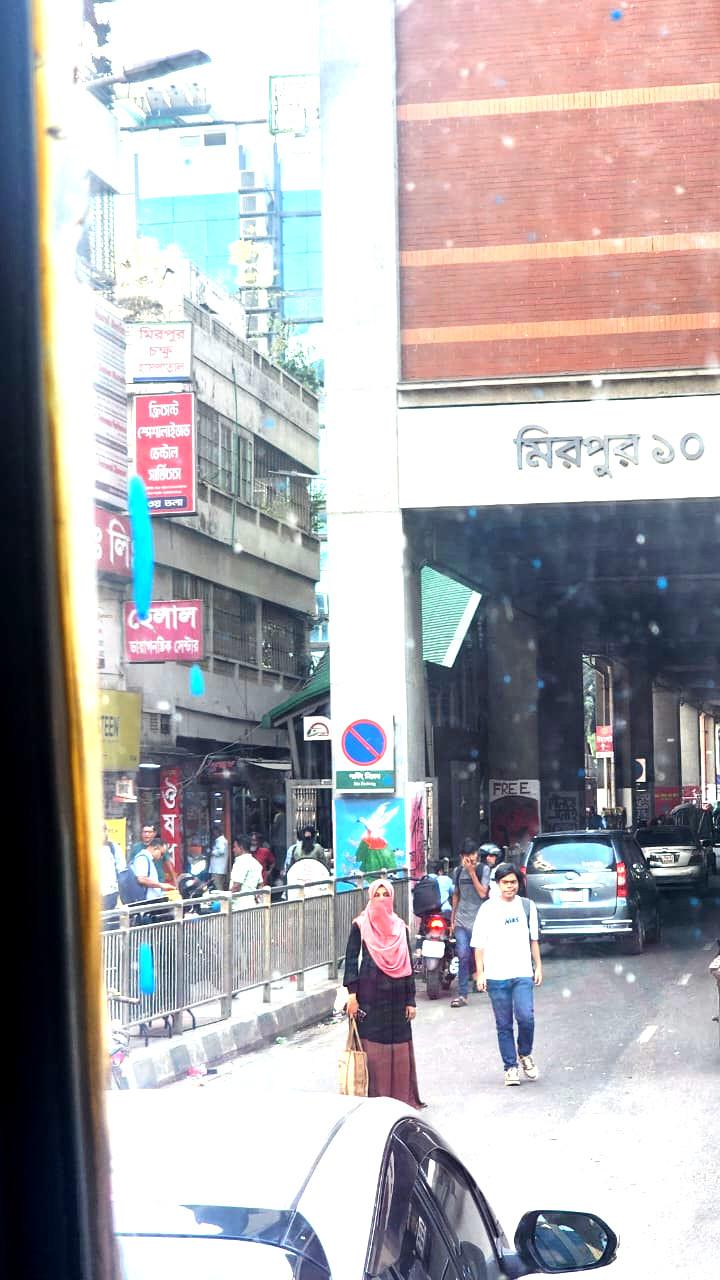No Parking: (335, 715, 396, 789)
